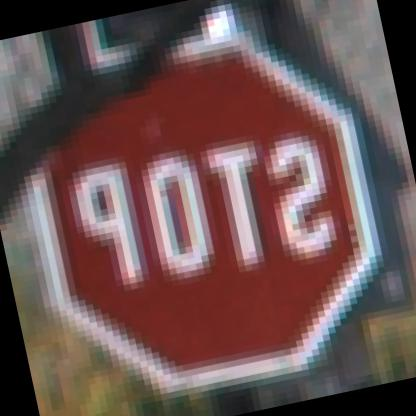stop: (7, 9, 415, 415)
